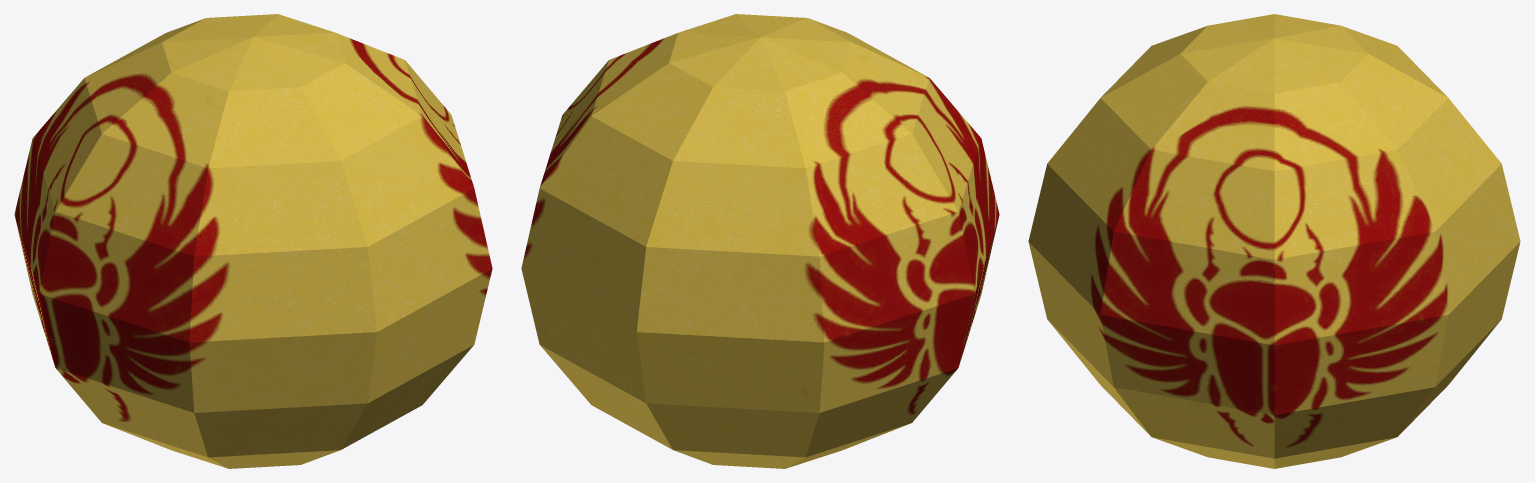
File: ORB.fbx
The picture shows the model from 3 angles, left to right: view 1: azimuth 30°, elevation 25°; view 2: azimuth 150°, elevation 25°; view 3: azimuth 270°, elevation 25°; orthographic projection.
Visible parts, largest first — view 1: ORB_LP; view 2: ORB_LP; view 3: ORB_LP.
Part boxes in pixels (<box>): ORB_LP: <box>14,14,492,468</box>; ORB_LP: <box>521,14,999,468</box>; ORB_LP: <box>1028,14,1520,468</box>.
Bounding box in the file's own units: 1.98 × 1.8 × 1.98.
1 material, 1 textured.
